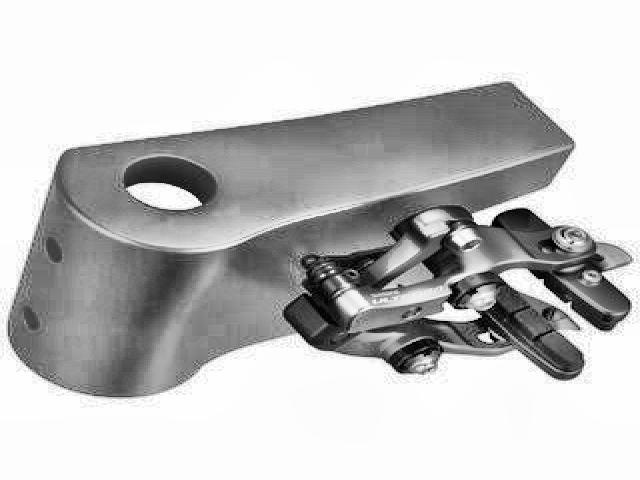rim_brake: (283, 205, 635, 383)
